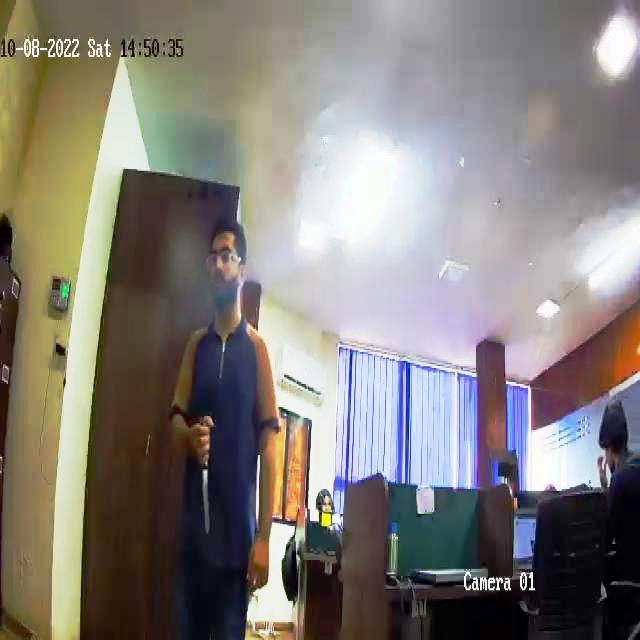Knife: (182, 416, 226, 534)
